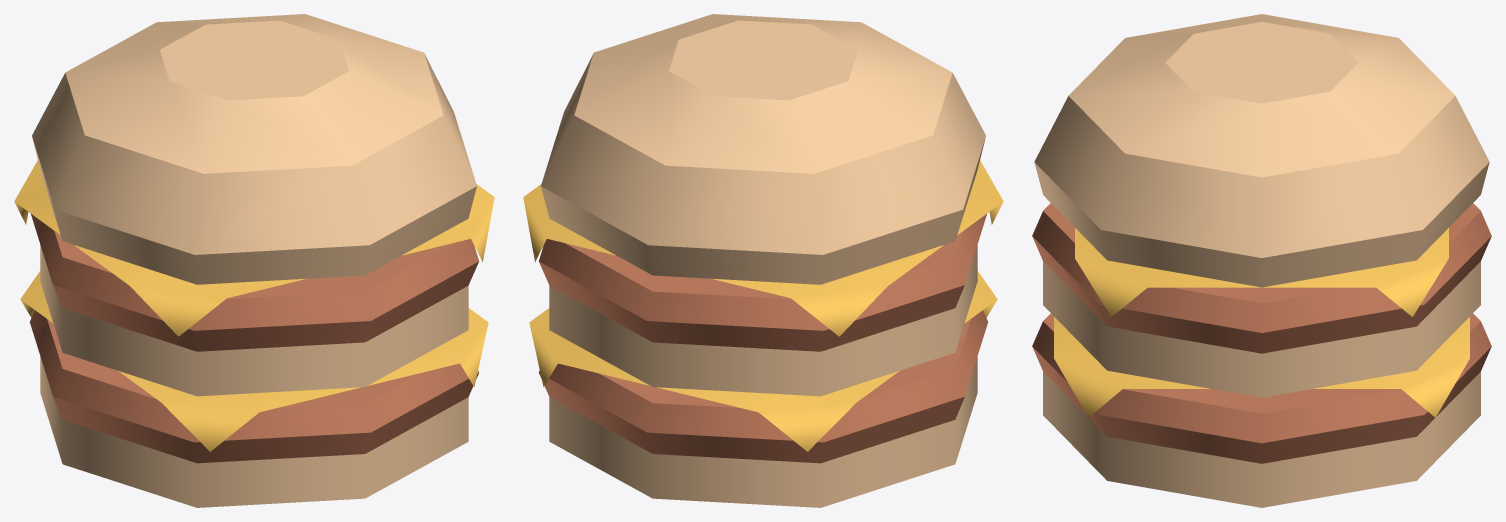
Rendered from burgerCheeseDouble.fbx.
3 renders of one model, left to right at view 1: azimuth 30°, elevation 25°; view 2: azimuth 150°, elevation 25°; view 3: azimuth 270°, elevation 25°, orthographic.
Parts seen in each view (by area): view 1: bunTop, patty (×2), bunBottom (×2), cheese (×2); view 2: bunTop, patty (×2), bunBottom (×2), cheese (×2); view 3: bunTop, patty (×2), bunBottom (×2), cheese (×2).
Part boxes in pixels (bbox=[...]): bunTop: bbox=[32, 14, 476, 284]; patty (×2): bbox=[30, 214, 479, 463]; bunBottom (×2): bbox=[40, 245, 468, 507]; cheese (×2): bbox=[14, 160, 494, 451]; bunTop: bbox=[541, 14, 985, 284]; patty (×2): bbox=[538, 214, 987, 463]; bunBottom (×2): bbox=[549, 245, 977, 507]; cheese (×2): bbox=[523, 160, 1003, 451]; bunTop: bbox=[1034, 14, 1489, 287]; patty (×2): bbox=[1032, 203, 1491, 463]; bunBottom (×2): bbox=[1043, 261, 1480, 507]; cheese (×2): bbox=[1054, 228, 1469, 417].
Size of the model in its own units: 3.78 by 3.2 by 3.78.
